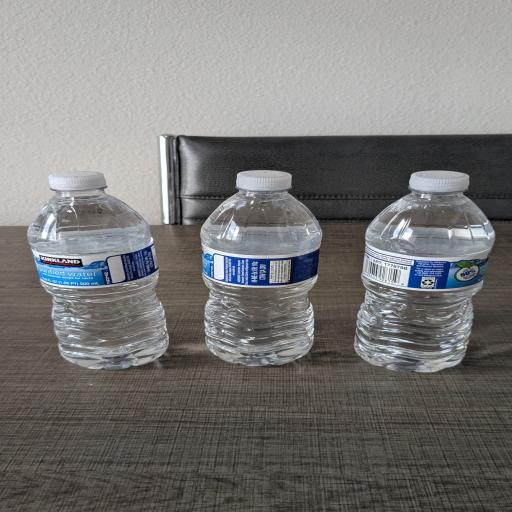waterbottle: (355, 171, 494, 372), (28, 172, 167, 369), (201, 171, 321, 365)
